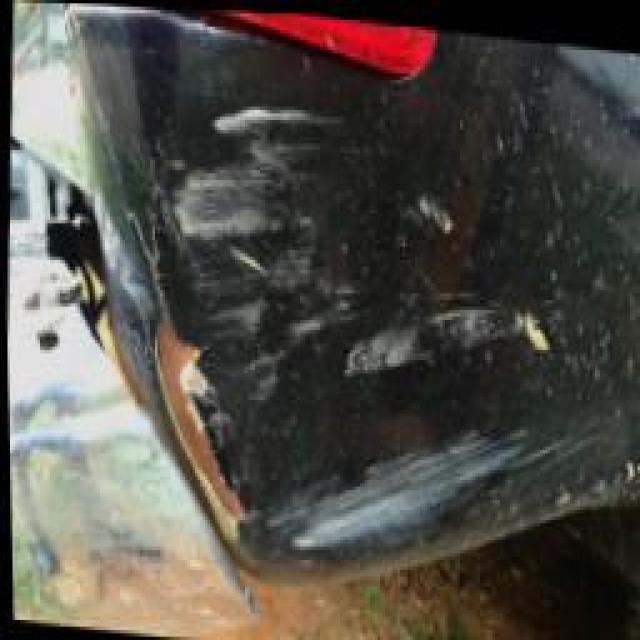Bumper: (0, 17, 640, 628)
